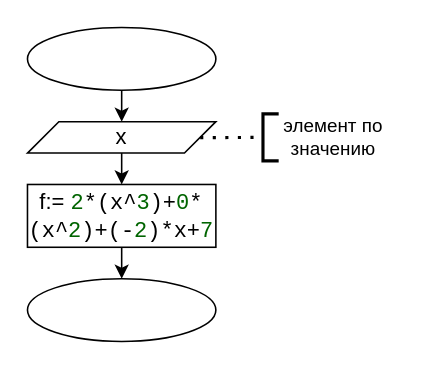
This 447x369 diagram has some shape labels left out. Each missing label, with the centre of its shape:
конец f: the point at 121,309
начало f: the point at 121,58
